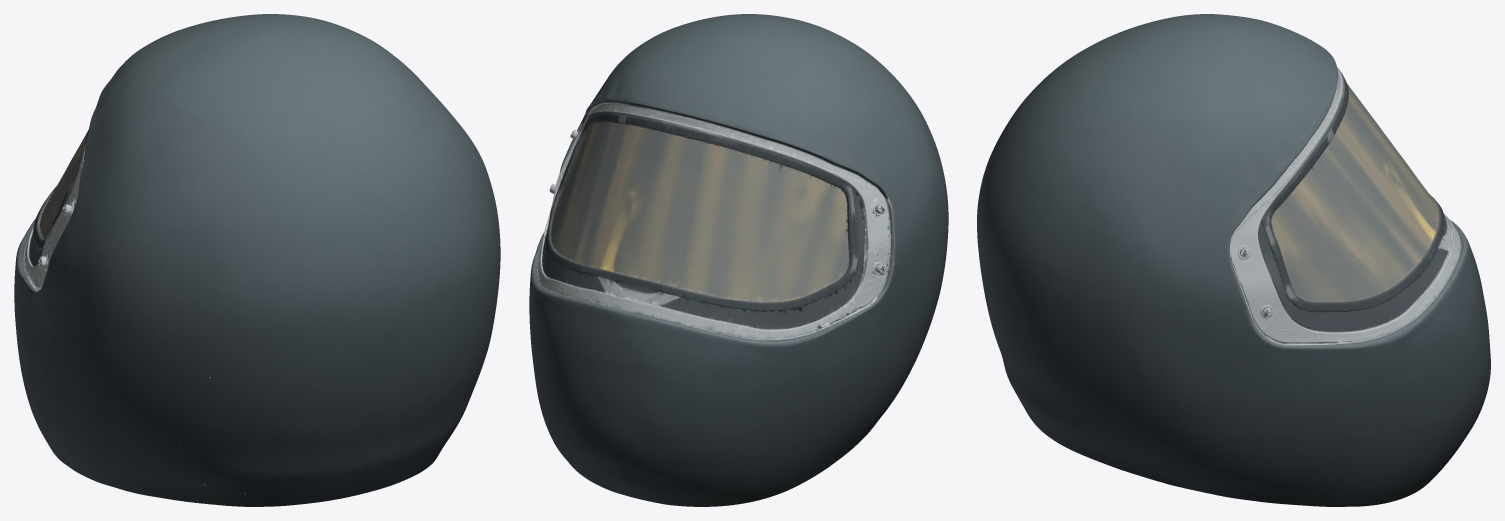
Rendered from casco_senza_facce_compressed.glb.
3 views of the same model, side by side, from view 1: azimuth 30°, elevation 25°; view 2: azimuth 150°, elevation 25°; view 3: azimuth 270°, elevation 25° (orthographic). The views are drawn at different scales.
Parts seen in each view (by area): view 1: tripo_node_26ea525f-a321-412f-bf5c-b1d284a51c92; view 2: tripo_node_26ea525f-a321-412f-bf5c-b1d284a51c92; view 3: tripo_node_26ea525f-a321-412f-bf5c-b1d284a51c92.
Boxes of the visible parts, left/top/right/bottom form: tripo_node_26ea525f-a321-412f-bf5c-b1d284a51c92: left=14, top=14, right=500, bottom=506; tripo_node_26ea525f-a321-412f-bf5c-b1d284a51c92: left=529, top=14, right=948, bottom=506; tripo_node_26ea525f-a321-412f-bf5c-b1d284a51c92: left=977, top=14, right=1490, bottom=506.
Size of the model in its own units: 0.8234 by 0.8893 by 0.9798.
1 material, 1 textured.
